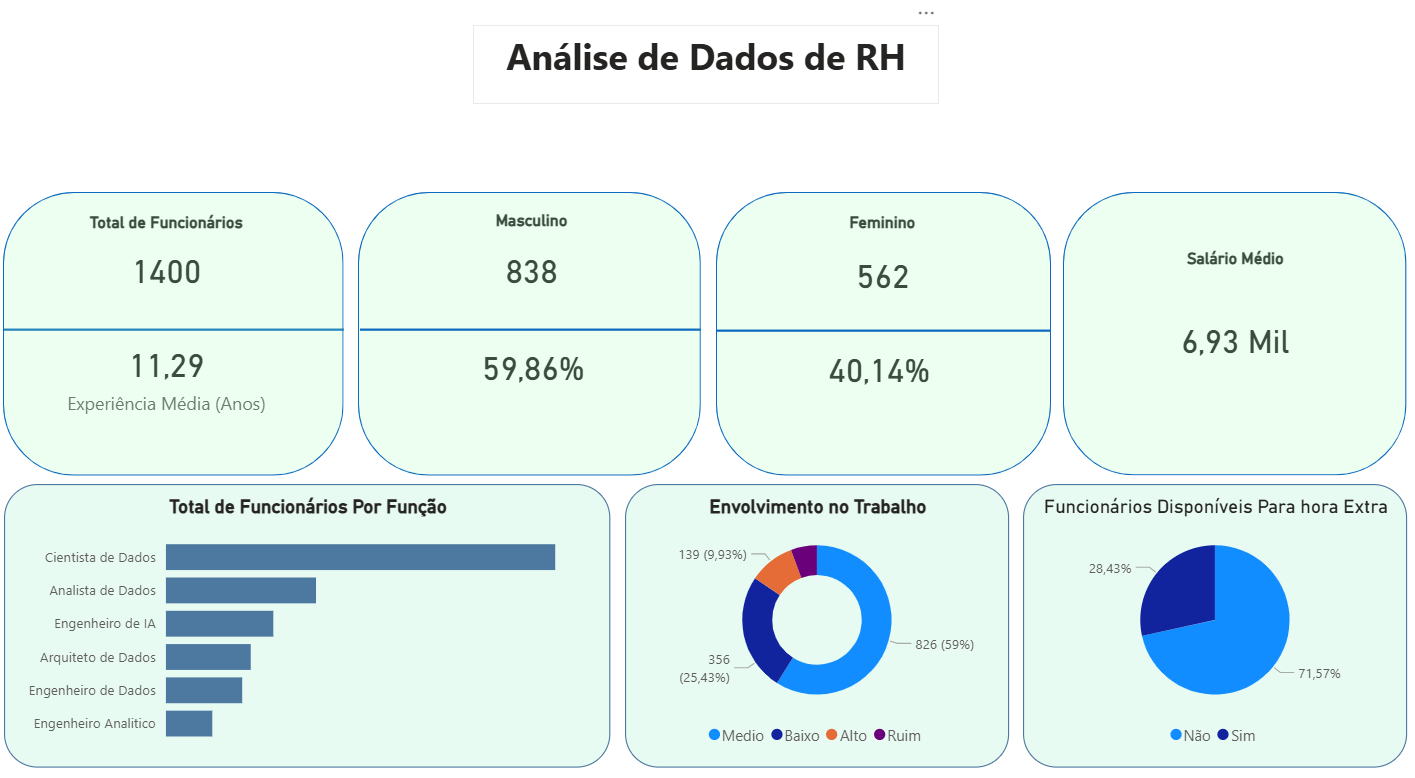

The dashboard page shown, as its layout file describes it:
{"tool":"powerbi","page":{"name":"Página 1","canvas":[1280,720],"ordinal":0},"visuals":[{"type":"pieChart","title":"Funcionários Disponíveis Para hora Extra","fields":{"Series":["DatasetRH.Disponivel_Hora_Extra"],"Y":["Medidas.TotalFunc"]},"box":[923.8,442.5,343.8,253.8],"z":0},{"type":"donutChart","title":"Envolvimento no Trabalho","fields":{"Y":["Medidas.TotalFunc"],"Category":["DatasetRH.Envolvimento_Trabalho"]},"box":[567.5,442.5,343.8,253.8],"z":1000},{"type":"clusteredBarChart","title":"Total de Funcionários Por Função","fields":{"Category":["DatasetRH.Funcao"],"Y":["Medidas.TotalFunc"]},"box":[11.2,442.5,542.5,253.8],"z":2000},{"type":"card","title":"Total de Funcionários","fields":{"Values":["Medidas.TotalFunc"]},"box":[69,200,176,86],"z":3000},{"type":"card","title":"Feminino","fields":{"Values":["Medidas.TotalFeminino"]},"box":[722,200,153,94],"z":4000},{"type":"card","fields":{"Values":["Medidas.% percentualFeminino"]},"box":[722,312,147,54],"z":5000},{"type":"card","fields":{"Values":["Medidas.% percentualMasculino"]},"box":[398,308,175,58],"z":6000},{"type":"card","title":"Masculino","fields":{"Values":["Medidas.TotalMasculino"]},"box":[398,198,173,89],"z":7000},{"type":"card","fields":{"Values":["Avg(DatasetRH.Anos_Experiencia)"]},"box":[59,294,196,103],"z":8000},{"type":"card","title":"Salário Médio","fields":{"Values":["Medidas.salarioMedio"]},"box":[974,232,280,146],"z":9000},{"type":"shape","box":[11,286,305,37],"z":10000},{"type":"shape","box":[11,181,305,254],"z":11000},{"type":"shape","box":[329,181,307,254],"z":12000},{"type":"shape","box":[649,181,300,254],"z":13000},{"type":"shape","box":[960,181.2,307.5,253.8],"z":14000},{"type":"shape","box":[330,286,305,37],"z":14001},{"type":"shape","box":[649,287,300,37],"z":14002}]}

Visuals, with their boxes in screenshot pixels (x1, y1, x2, y2), scaled from the page's 1280x720 canvas onto the 1415x778 screenshot:
"Funcionários Disponíveis Para hora Extra" pieChart: box(1021, 478, 1401, 752)
"Envolvimento no Trabalho" donutChart: box(627, 478, 1007, 752)
"Total de Funcionários Por Função" clusteredBarChart: box(12, 478, 612, 752)
"Total de Funcionários" card: box(76, 216, 271, 309)
"Feminino" card: box(798, 216, 967, 318)
card - Medidas.% percentualFeminino: box(798, 337, 961, 395)
card - Medidas.% percentualMasculino: box(440, 333, 633, 395)
"Masculino" card: box(440, 214, 631, 310)
card - Avg(DatasetRH.Anos_Experiencia): box(65, 318, 282, 429)
"Salário Médio" card: box(1077, 251, 1386, 408)
shape: box(12, 309, 349, 349)
shape: box(12, 196, 349, 470)
shape: box(364, 196, 703, 470)
shape: box(717, 196, 1049, 470)
shape: box(1061, 196, 1401, 470)
shape: box(365, 309, 702, 349)
shape: box(717, 310, 1049, 350)
